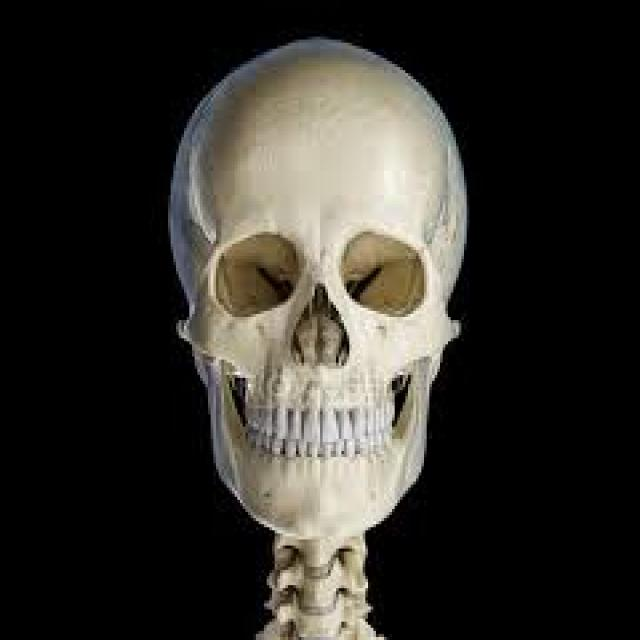skull: (160, 24, 466, 534)
